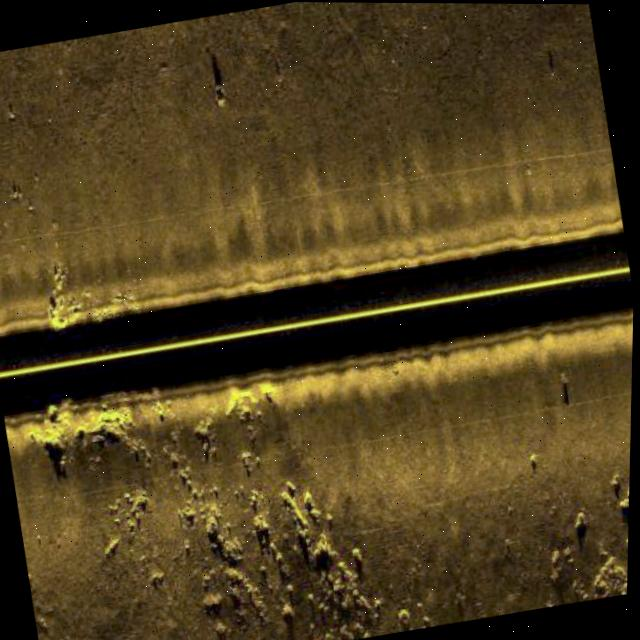mine: (402, 605, 418, 629)
